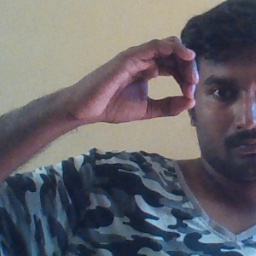O: (72, 31, 201, 128)
